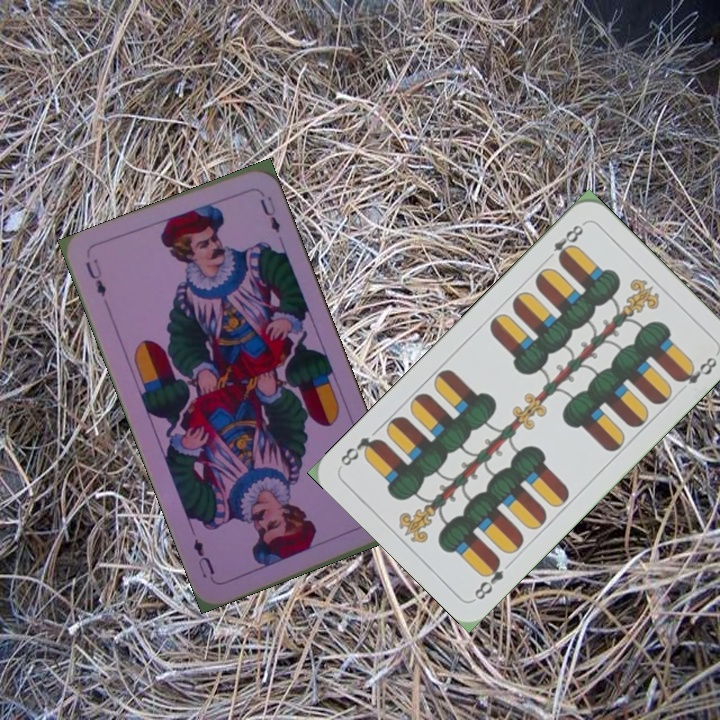E8: (541, 219, 588, 265), (470, 554, 507, 603)
EU: (81, 254, 109, 300)
